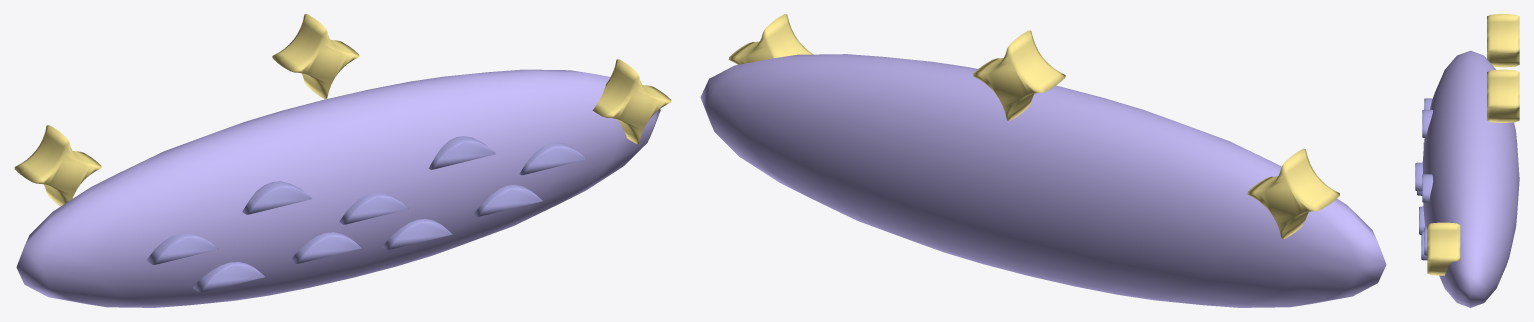
File: decor_5_star.glb
The picture shows the model from 3 angles, left to right: view 1: azimuth 30°, elevation 25°; view 2: azimuth 150°, elevation 25°; view 3: azimuth 270°, elevation 25°; orthographic projection. The views are drawn at different scales.
Visible parts, largest first — view 1: decor_5_star; view 2: decor_5_star; view 3: decor_5_star.
Boxes of the visible parts, x1=… form: decor_5_star: x1=14, y1=14, x2=671, y2=307; decor_5_star: x1=700, y1=14, x2=1386, y2=307; decor_5_star: x1=1415, y1=14, x2=1519, y2=307.
Bounding box in the file's own units: 14 × 4.97 × 2.73.
